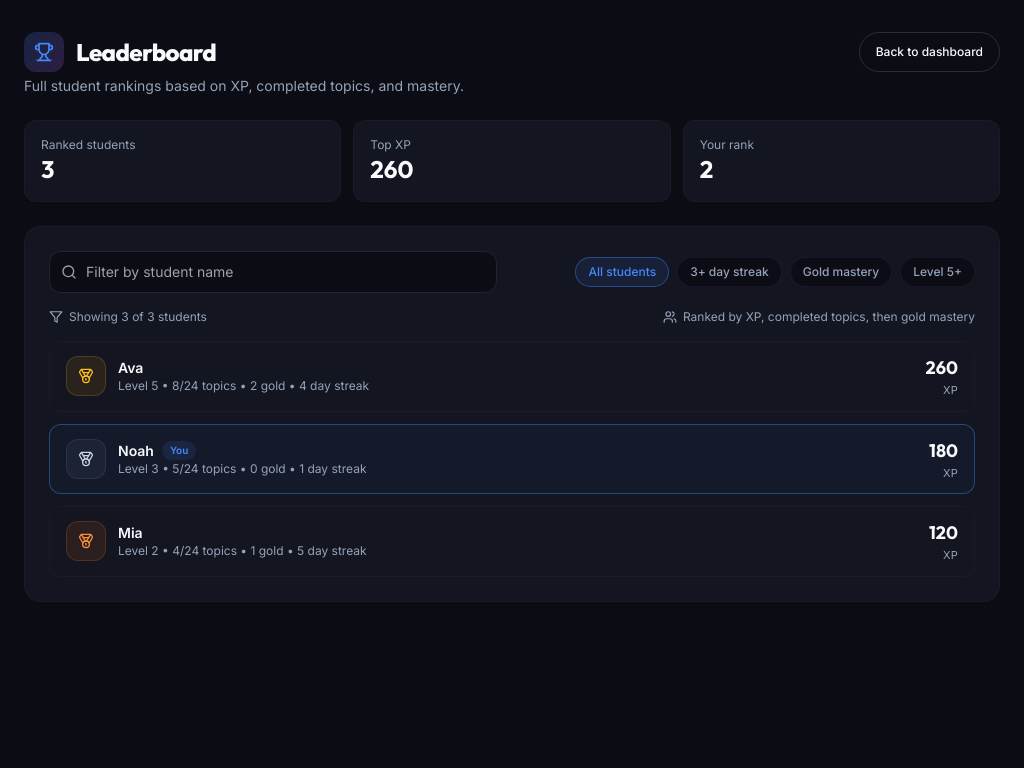
leaderboard page › filters students by name and filter chip
Type "mi" into the field named "Filter students by name".
click(273, 272); type("mi")  # box [49,251,497,293]
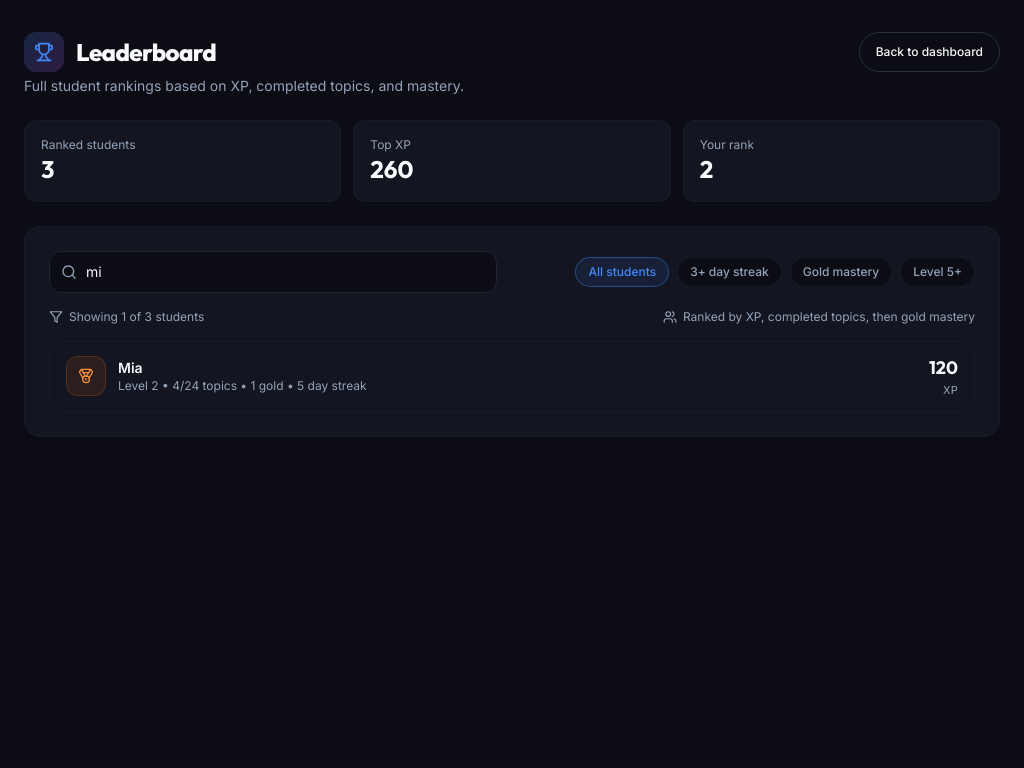
Expected: the text "Mia" is shown, [118,358,143,378]
Expected: the text "Ava" is gone
Clear the field named "Filter students by name" at (273, 272), box [49,251,497,293]
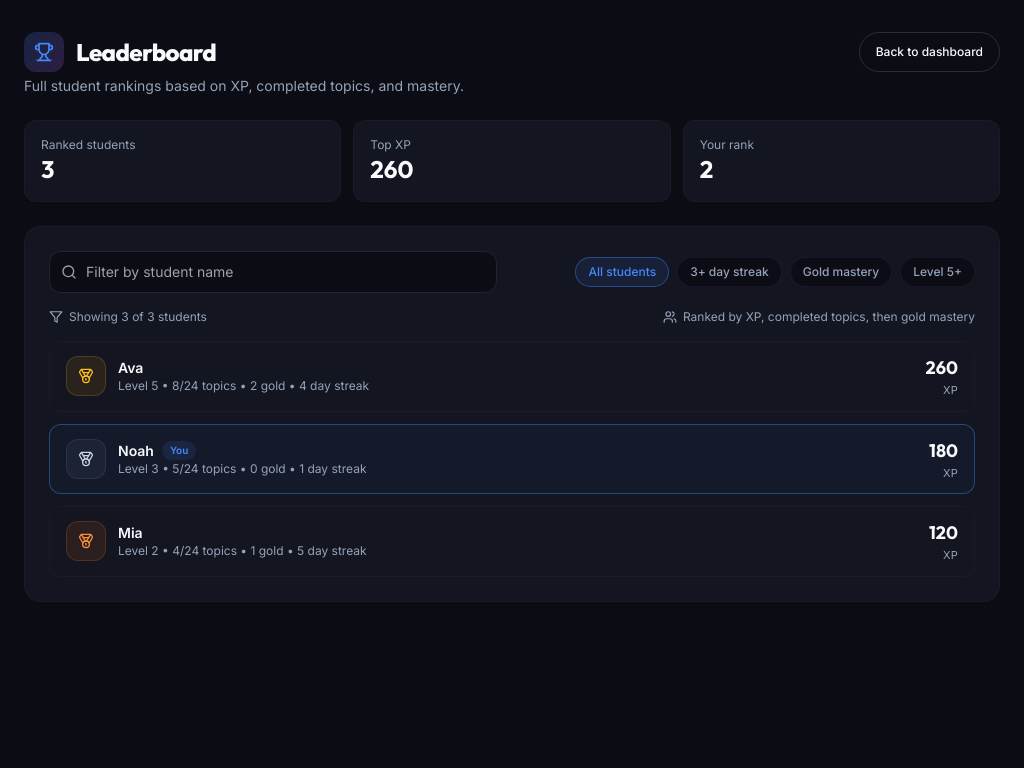
Click the button "Gold mastery".
click(841, 272)  # box [790,257,892,287]
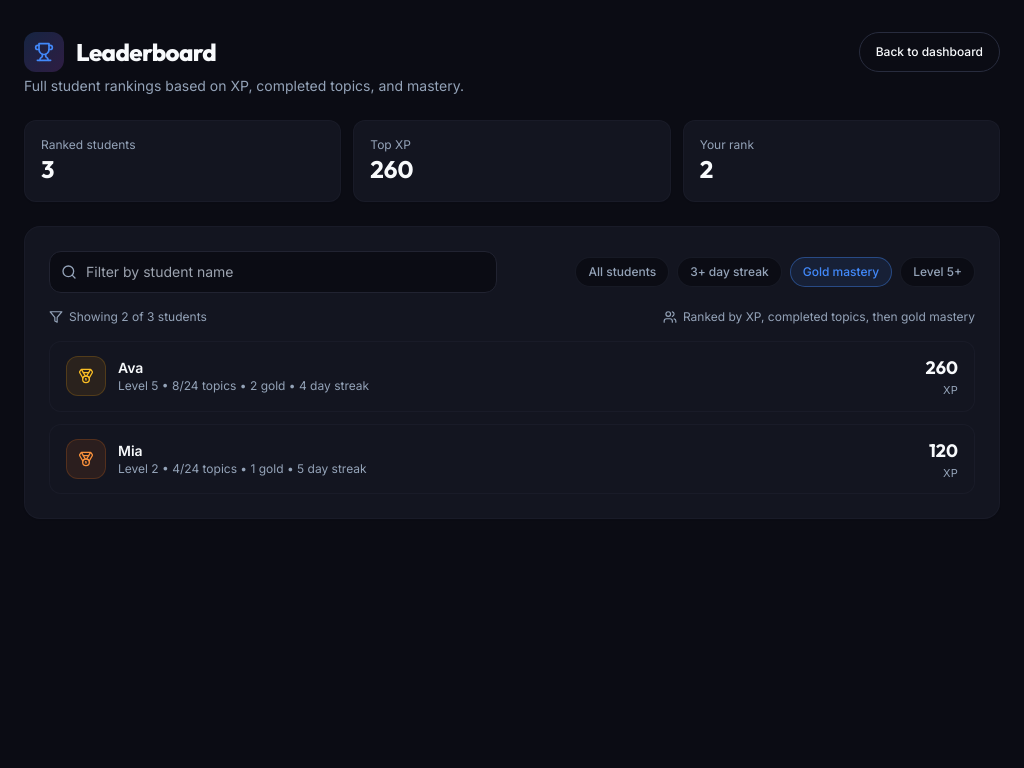
Expected: the text "Mia" is shown, [118,441,143,461]
Expected: the text "Ava" is shown, [118,358,143,378]
Expected: the text "Noah" is gone
